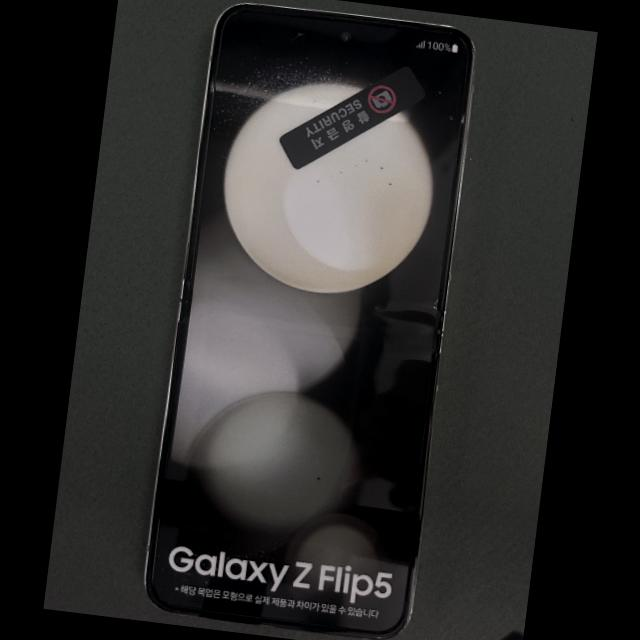lens: (340, 30, 352, 40)
phone: (144, 2, 475, 640)
sticker: (279, 67, 426, 168)
